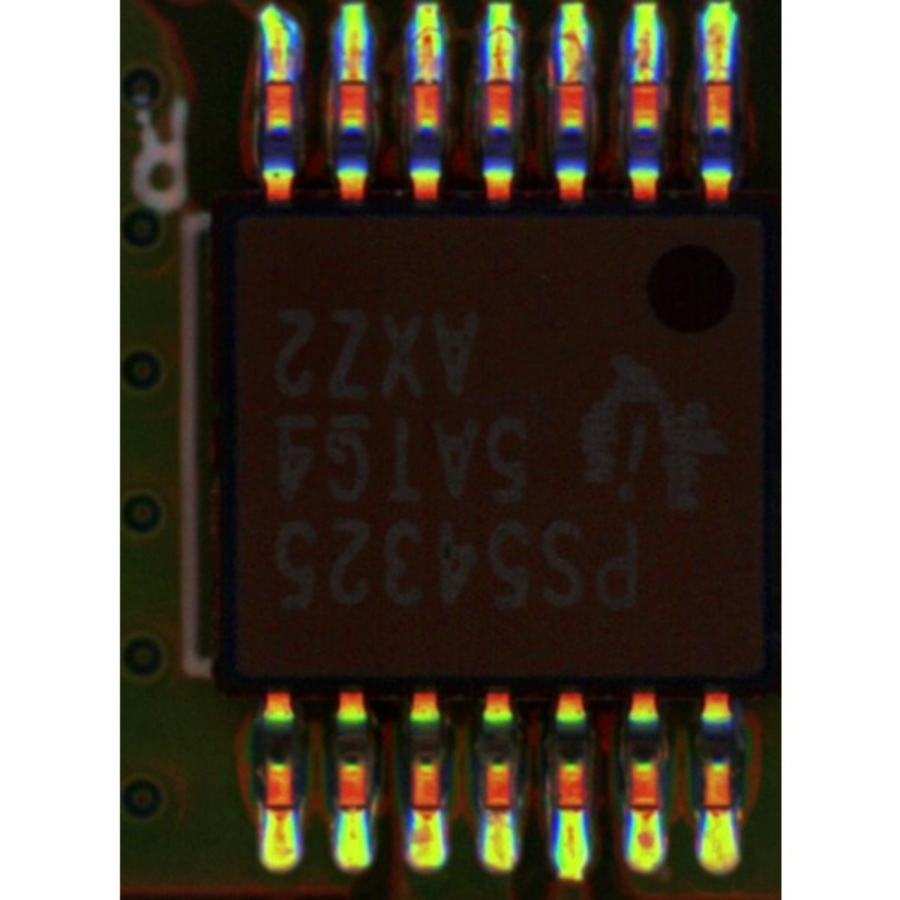Bad_podu: (344, 57, 363, 95), (416, 788, 437, 822), (271, 792, 290, 827), (418, 61, 436, 97), (492, 59, 509, 97), (711, 61, 727, 100), (637, 791, 655, 824), (565, 62, 580, 99), (488, 792, 505, 824)
